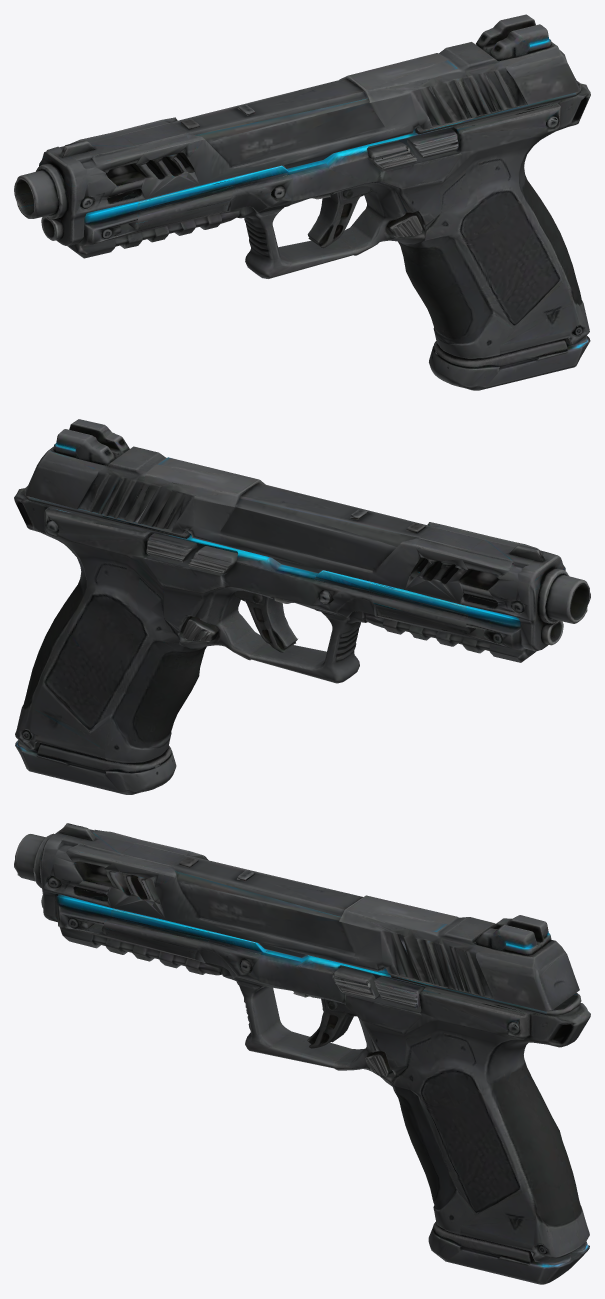
File: pistol.glb
The picture shows the model from 3 angles, top to bottom: view 1: azimuth 30°, elevation 25°; view 2: azimuth 150°, elevation 25°; view 3: azimuth 330°, elevation 25°; orthographic projection.
Parts seen in each view (by area): view 1: geometry_0; view 2: geometry_0; view 3: geometry_0.
Boxes of the visible parts, left/top/right/bottom form: geometry_0: left=14, top=14, right=590, bottom=390; geometry_0: left=14, top=419, right=590, bottom=794; geometry_0: left=14, top=823, right=590, bottom=1284.
Size of the model in its own units: 0.9541 by 0.5513 by 0.1245.
1 material, 1 textured.
